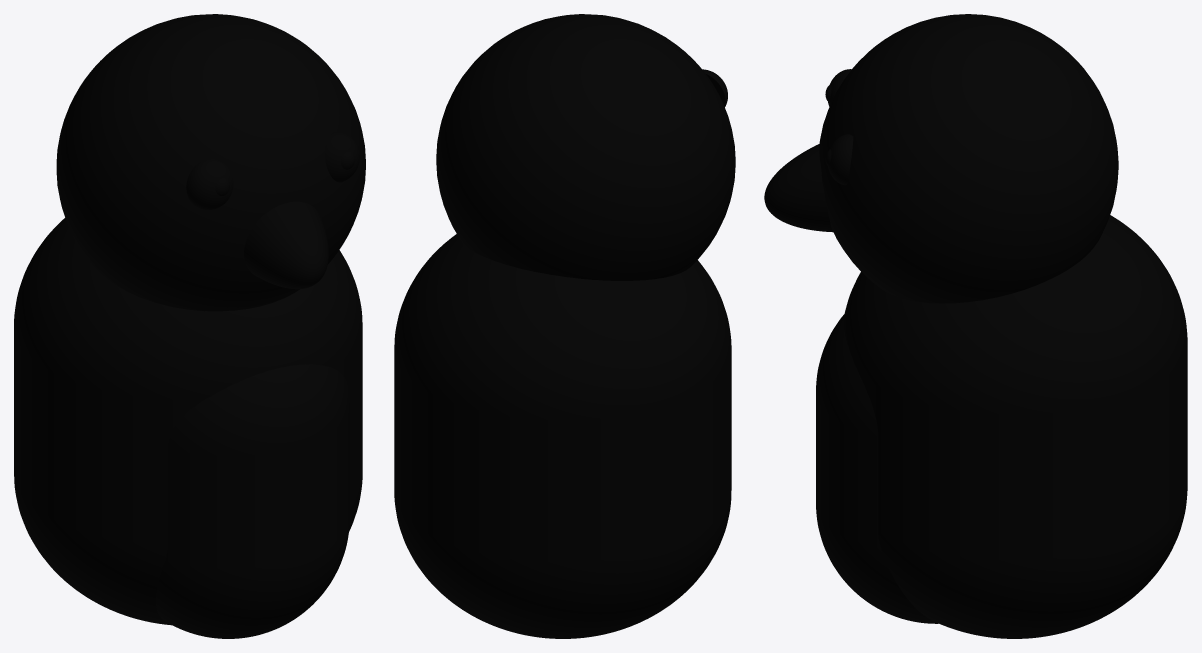
File: penguin.glb
3 views of the same model, side by side, from view 1: azimuth 30°, elevation 25°; view 2: azimuth 150°, elevation 25°; view 3: azimuth 270°, elevation 25° (orthographic). The views are drawn at different scales.
Parts seen in each view (by area): view 1: mesh_id43, mesh_id39, mesh_id45, mesh_id78, mesh_id52, mesh_id67; view 2: mesh_id43, mesh_id39; view 3: mesh_id43, mesh_id39, mesh_id45, mesh_id78, mesh_id67.
Part boxes in pixels (<box>): mesh_id43: <box>14,218,362,625</box>; mesh_id39: <box>56,14,365,311</box>; mesh_id45: <box>155,364,349,638</box>; mesh_id78: <box>244,201,328,289</box>; mesh_id52: <box>186,159,233,209</box>; mesh_id67: <box>325,132,359,182</box>; mesh_id43: <box>394,234,731,638</box>; mesh_id39: <box>436,14,735,280</box>; mesh_id43: <box>843,215,1187,638</box>; mesh_id39: <box>819,14,1118,303</box>; mesh_id45: <box>816,314,938,623</box>; mesh_id78: <box>764,144,832,232</box>; mesh_id67: <box>828,134,853,185</box>.
Bounding box in the file's own units: 0.2372 × 0.4472 × 0.2901.
Materials: 6 (6 with a texture image).
